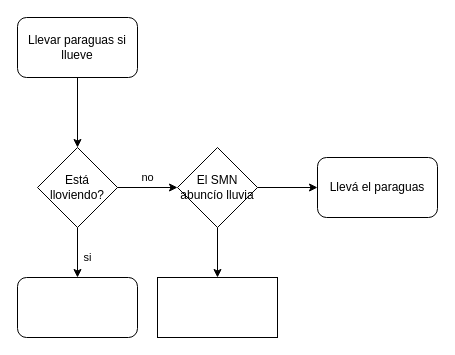
The diagram is 455 pixels wide and 355 high, and some of its shapes have lost their labels. The shapes that lost their labels are listed below. From the top down, each one's centre as x and y in pixels, then its label:
At (77,307): "llevá el paragüas".
At (217,307): "No lo lleves,deja en casa".
